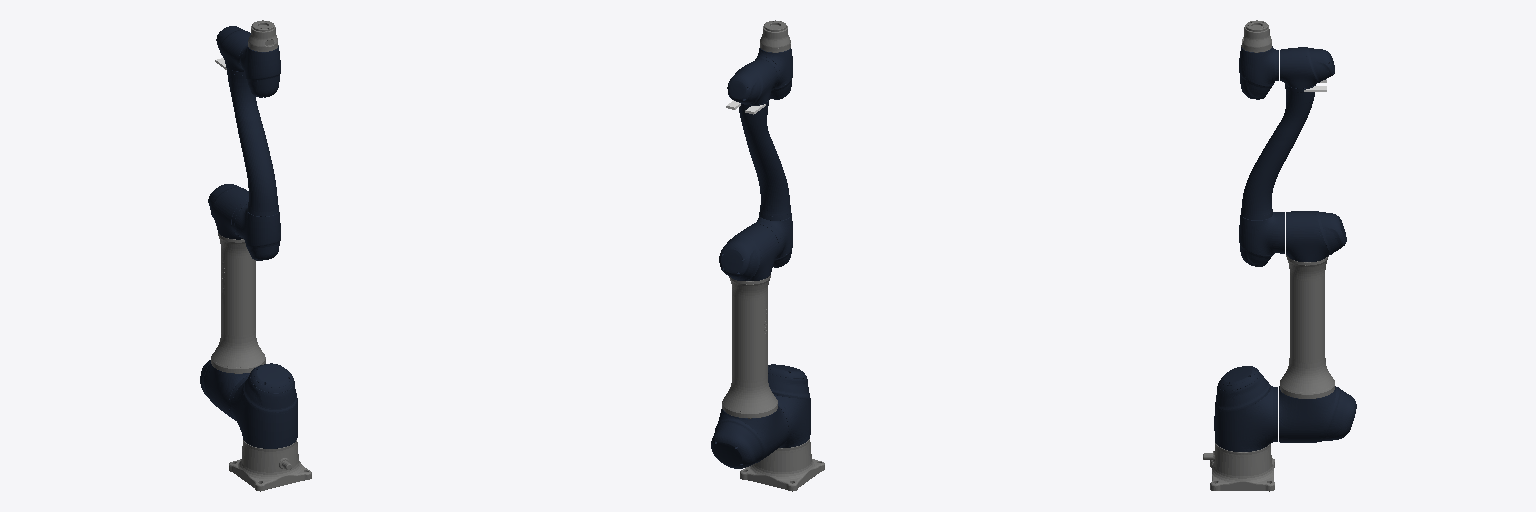
--- Facts derived from the render (not from the file) ---
3 views of the same robot in one strip: view 1: azimuth 30°, elevation 25°; view 2: azimuth 150°, elevation 25°; view 3: azimuth 270°, elevation 25° (orthographic).
Robot: doosan — 24 links, 23 joints (6 revolute, 17 fixed); root link base_0; default pose: all joints at 0.
Links seen in each view (by area): view 1: link2, link4, link1, base_0, link3, link5, link6; view 2: link2, link4, link1, base_0, link5, link3, link6; view 3: link2, link4, link1, base_0, link3, link5, link6.
Link boxes in pixels (x1,y1,x2,y2): link2: [200, 184, 265, 420]; link4: [216, 26, 278, 216]; link1: [229, 363, 297, 448]; base_0: [229, 440, 311, 491]; link3: [232, 200, 280, 260]; link5: [239, 45, 280, 97]; link6: [248, 20, 278, 51]; link2: [711, 224, 788, 468]; link4: [727, 59, 791, 220]; link1: [768, 364, 810, 447]; base_0: [740, 439, 824, 491]; link5: [755, 48, 792, 99]; link3: [752, 215, 792, 267]; link6: [760, 20, 790, 52]; link2: [1279, 211, 1356, 442]; link4: [1241, 47, 1334, 219]; link1: [1214, 366, 1277, 451]; base_0: [1203, 443, 1274, 491]; link3: [1239, 212, 1284, 266]; link5: [1239, 46, 1278, 99]; link6: [1241, 20, 1271, 52].
Bounding box of the posed robot: 0.182 × 0.4285 × 1.4 m (x, y, z).
Meshes: 20 distinct files referenced, 14 mesh visuals loaded (14 binary STL); not drawn: 10 (reference not matched to a file when rendering).

URDF robot description (doosan):
<?xml version="1.0"?>

<robot name="doosan" xmlns:xacro="http://www.ros.org/wiki/xacro">
    <link name="base_0">
        <inertial>
            <mass value="3.635"/>
            <origin xyz="4e-06   -0.001016     0.08181"/>
            <inertia ixx="0.02216" ixy="5.8001e-06" ixz="6.1941e-06" iyy="0.024835"
                iyz="-5.3034e-05"
                izz="0.021063"/>
            </inertial>
        <visual>
            <origin rpy="0 0 0" xyz="0 0 0" />
            <geometry>
                <mesh filename="meshes/a0912_blue/A0912_0_0.stl" scale="0.001 0.001 0.001" />
            </geometry>
            <material name="dr_gray">
                <color rgba="0.490 0.490 0.486 1.0"/>
            </material>
        </visual>
    </link>

    <link name="doosan_pedestal">
        <visual>
            <origin rpy="1.57079632679 0 -1.57079632679" xyz="0.26 0.345 -0.91488"/>
            <geometry>
                <mesh filename="meshes/doosan_pedestal/pedestal.STL"/>
            </geometry>
            <material name="darkgray">
                <color rgba=".2 .2 .2 1"/>
            </material>
        </visual>
        <collision>
            <origin rpy="0 0 0" xyz="-0.02 0 -0.29"/>
            <geometry>
                <cylinder length="0.62" radius="0.18"/>
            </geometry>
        </collision>
        <inertial>
            <origin rpy="0 0 0" xyz="0 0 -0.5"/>
            <mass value="60.86397744"/>
            <inertia ixx="5.0635929" ixy="0.00103417" ixz="0.80199628" iyy="6.08689388" iyz="0.00105311" izz="4.96191932"/>
        </inertial>
    </link>

    <joint name="doosan_pedestal_fixed" type="fixed">
        <origin rpy="0 0 0" xyz="0.0 0.0 0.0"/>
        <parent link="base_0"/>
        <child link="doosan_pedestal"/>
    </joint>  

    <link name="doosan_controller_box">
        <collision>
        <origin rpy="0 0 0" xyz="-0.325 0 -0.38"/>
        <geometry>
            <box size="0.22 0.4 0.53"/>
        </geometry>
        </collision>
    </link>

    <joint name="doosan_controller_box_fixed" type="fixed">
        <origin rpy="0 0 0" xyz="0.0 0.0 0.0"/>
        <parent link="base_0"/>
        <child link="doosan_controller_box"/>
    </joint>

    <link name="doosan_pedestal_feet">
        <collision>
        <origin rpy="0 0 0" xyz="-0.1225 0 -0.758"/>
        <geometry>
            <box size="0.77 0.7 0.31"/>
        </geometry>
        </collision>
    </link>

    <joint name="doosan_pedestal_feet_fixed" type="fixed">
        <origin rpy="0 0 0" xyz="0.0 0.0 0.0"/>
        <parent link="base_0"/>
        <child link="doosan_pedestal_feet"/>
    </joint>

    <!-- joint 1 -->
    <joint name="joint1" type="revolute">
        <parent link="base_0" />
        <child link="link1" />
        <origin rpy="0 0 0" xyz="0 0 0.195" />
        <axis xyz="0 0 1" />
        <limit effort="411" lower="-6.2832" upper="6.2832" velocity="3.1416"/>
        <dynamics friction="0" />
    </joint>
    <link name="link1">
        <inertial>
            <mass value="7.863"/>
            <origin xyz="4.4e-05    0.029982    -0.01112"/>
            <inertia ixx="0.045839" ixy="1.2759e-05" ixz="-3.6168e-05" iyy="0.032913"
                iyz="-0.0029965"
                izz="0.044399"/>
        </inertial>
        <collision>
            <geometry>
                <cylinder radius="0.08" length="0.2"/>
            </geometry>
        </collision>
        <visual>
            <origin rpy="0 0 0" xyz="0 0 0" />
            <geometry>
                <mesh filename="meshes/a0912_blue/A0912_1_0.stl" scale="0.001 0.001 0.001" />
            </geometry>
            <material name="dr_navy">
                <color rgba="0.15686 0.19215 0.25490 1" />
            </material>
        </visual>
        <visual>
            <origin rpy="0 0 0" xyz="0 0 0" />
            <geometry>
                <mesh filename="meshes/a0912_blue/A0912_1_1.stl" scale="0.001 0.001 0.001" />
            </geometry>
            <material name="dr_navy">
                <color rgba="0.15686 0.19215 0.25490 1" />
            </material>
        </visual>
        <visual>
            <origin rpy="0 0 0" xyz="0 0 0" />
            <geometry>
                <mesh filename="meshes/a0912_blue/A0912_1_2.stl" scale="0.001 0.001 0.001" />
            </geometry>
            <material name="dr_navy">
                <color rgba="0.15686 0.19215 0.25490 1" />
            </material>
        </visual>
    </link>
    <!-- joint2 -->
    <joint name="joint2" type="revolute">
        <parent link="link1" />
        <child link="link2" />
        <origin rpy="0 -1.571 -1.571" xyz="0 0.039 0" />
        <axis xyz="0 0 1" />
        <limit effort="411" lower="-6.2832" upper="6.2832" velocity="3.1416"/>
        <dynamics friction="0" />
    </joint>
    <link name="link2">
        <inertial>
            <mass value="10.985"/>
            <origin xyz="0.19748    0.001426     0.13191"/>
            <inertia ixx="0.04446" ixy="-0.0049948" ixz="-0.010992" iyy="0.67642" iyz="-2.8483e-05"
                izz="0.67428"/>
        </inertial>
        <collision>
            <origin rpy="0 -1.571 0" xyz="0.3 0 0.1525" />
            <geometry>
                <cylinder radius="0.08" length="0.6"/>
            </geometry>
        </collision>
        <visual>
            <origin rpy="0 0 0" xyz="0 0 0" />
            <geometry>
                <mesh filename="meshes/a0912_blue/A0912_2_0.stl" scale="0.001 0.001 0.001" />
            </geometry>
            <material name="dr_navy">
                <color rgba="0.15686 0.19215 0.25490 1" />
            </material>
        </visual>
        <visual>
            <origin rpy="0 0 0" xyz="0 0 0" />
            <geometry>
                <mesh filename="meshes/a0912_blue/A0912_2_1.stl" scale="0.001 0.001 0.001" />
            </geometry>
            <material name="dr_gray">
                <color rgba="0.490 0.490 0.486 1.0"/>
            </material>
        </visual>
        <visual>
            <origin rpy="0 0 0" xyz="0 0 0" />
            <geometry>
                <mesh filename="meshes/a0912_blue/A0912_2_2.stl" scale="0.001 0.001 0.001" />
            </geometry>
            <material name="dr_navy">
                <color rgba="0.15686 0.19215 0.25490 1" />
            </material>
        </visual>
    </link>
    <!-- joint3 -->
    <joint name="joint3" type="revolute">
        <parent link="link2" />
        <child link="link3" />
        <origin rpy="0 0 1.571" xyz="0.56 0 0" />
        <axis xyz="0 0 1" />
        <limit effort="194" lower="-2.7925" upper="2.7925" velocity="3.1416"/>
        <dynamics friction="0" />
    </joint>
    <link name="link3">
        <inertial>
            <mass value="2.881"/>
            <origin xyz="8.5e-05   -0.002513    0.032058"/>
            <inertia ixx="0.012756" ixy="-5.4257e-06" ixz="1.6402e-05" iyy="0.011416"
                iyz="-0.0001989"
                izz="0.0080652"/>
        </inertial>
        <visual>
            <origin rpy="0 0 0" xyz="0 0 0" />
            <geometry>
                <mesh filename="meshes/a0912_blue/A0912_3_0.stl" scale="0.001 0.001 0.001" />
            </geometry>
            <material name="dr_navy">
                <color rgba="0.15686 0.19215 0.25490 1" />
            </material>
        </visual>
        <visual>
            <origin rpy="0 0 0" xyz="0 0 0" />
            <geometry>
                <mesh filename="meshes/a0912_blue/A0912_3_1.stl" scale="0.001 0.001 0.001" />
            </geometry>
            <material name="dr_navy">
                <color rgba="0.15686 0.19215 0.25490 1" />
            </material>
        </visual>
    </link>
    <!-- joint4 -->
    <joint name="joint4" type="revolute">
        <parent link="link3" />
        <child link="link4" />
        <origin rpy="1.571 0 0" xyz="0 -0.516 0" />
        <axis xyz="0 0 1" />
        <limit effort="50" lower="-6.2832" upper="6.2832" velocity="6.2832"/>
        <dynamics friction="0" />
    </joint>
    <link name="link4">
        <inertial>
            <mass value="3.273"/>
            <origin xyz="-9.6e-05    0.085314    -0.13975"/>
            <inertia ixx="0.12246" ixy="2.3905e-05" ixz="2.5022e-05" iyy="0.11307" iyz="-0.027995"
                izz="0.017186"/>
        </inertial>
        <collision>
            <origin rpy="-0.46 0 0" xyz="0 0.075 -0.2" />
            <geometry>
                <cylinder radius="0.05" length="0.4"/>
            </geometry>
        </collision>
        <visual>
            <origin rpy="0 0 0" xyz="0 0 0" />
            <geometry>
                <mesh filename="meshes/a0912_blue/A0912_4_0.stl" scale="0.001 0.001 0.001" />
            </geometry>
            <material name="dr_navy">
                <color rgba="0.15686 0.19215 0.25490 1" />
            </material>
        </visual>
        <visual>
            <origin rpy="0 0 0" xyz="0 0 0" />
            <geometry>
                <mesh filename="meshes/a0912_blue/A0912_4_1.stl" scale="0.001 0.001 0.001" />
            </geometry>
            <material name="dr_navy">
                <color rgba="0.15686 0.19215 0.25490 1" />
            </material>
        </visual>
    </link>
    <!-- joint5 -->
    <joint name="joint5" type="revolute">
        <parent link="link4" />
        <child link="link5" />
        <origin rpy="-1.571 0 0" xyz="0 0 0" />
        <axis xyz="0 0 1" />
        <limit effort="50" lower="-6.2832" upper="6.2832" velocity="6.2832"/>
        <dynamics friction="0" />
    </joint>
    <link name="link5">
        <inertial>
            <mass value="2.141"/>
            <origin xyz="0.000109   -0.003286     0.01477"/>
            <inertia ixx="0.013145" ixy="-4.7132e-06" ixz="8.5804e-06" iyy="0.0073072"
                iyz="-5.999e-05"
                izz="0.0090476"/>
        </inertial>
        <collision>
            <origin rpy="1.571 0 0" xyz="0 0 0" />
            <geometry>
                <cylinder radius="0.06" length="0.15"/>
            </geometry>
        </collision>
        <visual>
            <origin rpy="0 0 0" xyz="0 0 0" />
            <geometry>
                <mesh filename="meshes/a0912_blue/A0912_5_0.stl" scale="0.001 0.001 0.001" />
            </geometry>
            <material name="dr_navy">
                <color rgba="0.15686 0.19215 0.25490 1" />
            </material>
        </visual>
        <visual>
            <origin rpy="0 0 0" xyz="0 0 0" />
            <geometry>
                <mesh filename="meshes/a0912_blue/A0912_5_1.stl" scale="0.001 0.001 0.001" />
            </geometry>
            <material name="dr_navy">
                <color rgba="0.15686 0.19215 0.25490 1" />
            </material>
        </visual>
    </link>
    <!-- joint6 -->
    <joint name="joint6" type="revolute">
        <parent link="link5" />
        <child link="link6" />
        <origin rpy="1.571 0 0" xyz="0 -0.124 0" />
        <axis xyz="0 0 1" />
        <limit effort="50" lower="-6.2832" upper="6.2832" velocity="6.2832"/>
        <dynamics friction="0" />
    </joint>
    <link name="link6">
        <inertial>
            <mass value="0.784"/>
            <origin xyz="-1.9e-05      -6e-06    -0.05227"/>
            <inertia ixx="0.0067403" ixy="5.2373e-06" ixz="2.4957e-06" iyy="0.0048015"
                iyz="8.3671e-06"
                izz="0.0059696"/>
        </inertial>
        <visual>
            <origin rpy="0 0 0" xyz="0 0 0" />
            <geometry>
                <mesh filename="meshes/a0912_blue/A0912_6_0.stl" scale="0.001 0.001 0.001" />
            </geometry>
            <material name="dr_gray">
                <color rgba="0.490 0.490 0.486 1.0"/>
            </material>
        </visual>
    </link>

    <link name="right_hand"/>
    <joint name="right_hand_fixed" type="fixed">
        <origin rpy="0 0 0" xyz="0 0 0"/>
        <parent link="link6"/>
        <child link="right_hand"/>
    </joint>

    <link name="right_gripper">
        <inertial>
            <origin xyz="8.625E-08 -4.6583E-06 0.03145" rpy="0 0 0" />
            <mass value="0.22652" />
            <inertia ixx="0.00020005" ixy="-4.2442E-10" ixz="-2.9069E-10" iyy="0.00017832" iyz="-3.4402E-08" izz="0.00013478" />
        </inertial>
        <visual>
        <origin xyz="0 0 -0.061525" quat="0 0.707388 -0.706825 0" />
        <geometry>
            <mesh filename="meshes/visual/robotiq_arg2f_base_link.stl" />
        </geometry>
        <material name="">
            <color rgba="0.1 0.1 0.1 1" />
        </material>
        </visual>
        <collision>
        <origin xyz="0 0 -0.061525" quat="0 0.707388 -0.706825 0" />
        <geometry>
            <mesh filename="meshes/collision/robotiq_arg2f_base_link.stl" />
        </geometry>
        </collision>
    </link>

    <joint name="right_gripper_fixed" type="fixed">
        <origin quat="0 -0.707105 0.707108 0 " xyz="0 0 -0.0625"/>
        <parent link="right_hand"/>
        <child link="right_gripper"/>
        <axis xyz="0 0 0"/>
    </joint>

    <link name="tcp"/>
    <joint name="doosan_eef_fixed" type="fixed">
        <origin quat="1 0 0 0" xyz="0 0 0.2075"/>
        <parent link="right_hand"/>
        <child link="tcp"/>
    </joint>

    <joint name="finger_joint" type="fixed">
        <origin xyz="0.030601 2.43684e-05 -0.11643" quat="-0.64507 0.290316 -0.290085 0.644556"/>
        <parent link="right_gripper" />
        <child link="left_outer_knuckle" />
        <axis xyz="-1 0 0" />
        <limit lower="0" upper="0.7" velocity="2.0" effort="1000" />
    </joint>

    <joint name="right_outer_knuckle_joint" type="fixed">
        <origin xyz="-0.030601 -2.43684e-05 -0.11643" quat="0.644556 -0.290085 -0.290316 0.64507"/>
        <parent link="right_gripper" />
        <child link="right_outer_knuckle" />
        <axis xyz="1 0 0" />
        <limit lower="-0.725" upper="0.725" velocity="2.0" effort="1000" />
        <mimic joint="finger_joint" multiplier="-1" offset="0" />
    </joint>

    <link name="right_outer_knuckle">
        <inertial>
            <origin xyz="-0.000200000000003065 0.0199435877845359 0.0292245259211331" rpy="0 0 0" />
            <mass value="0.00853198276973456" />
            <inertia
                ixx="2.89328108496468E-06"
                ixy="-1.57935047237397E-19"
                ixz="-1.93980378593255E-19"
                iyy="1.86719750325683E-06"
                iyz="-1.21858577871576E-06"
                izz="1.21905238907251E-06" />
        </inertial>
        <visual>
            <origin xyz="0 0 0" rpy="0 0 0" />
            <geometry>
                <mesh filename="meshes/visual/robotiq_arg2f_140_outer_knuckle.stl" />
            </geometry>
            <material name="">
                <color rgba="0.792156862745098 0.819607843137255 0.933333333333333 1" />
            </material>
        </visual>
        <collision>
            <origin xyz="0 0 0" rpy="0 0 0" />
            <geometry>
                <mesh filename="meshes/collision/robotiq_arg2f_140_outer_knuckle.stl" />
            </geometry>
        </collision>
    </link>

    <link name="right_outer_finger">
        <inertial>
            <origin xyz="0.00030115855001899 0.0373907951953854 -0.0208027427000385" rpy="0 0 0" />
            <mass value="0.022614240507152" />
            <inertia
                ixx="1.52518312458174E-05"
                ixy="9.76583423954399E-10"
                ixz="-5.43838577022588E-10"
                iyy="6.17694243867776E-06"
                iyz="6.78636130740228E-06"
                izz="1.16494917907219E-05" />
        </inertial>
        <visual>
            <origin xyz="0 0 0" rpy="0 0 0" />
            <geometry>
                <mesh filename="meshes/visual/robotiq_arg2f_140_outer_finger.stl" />
            </geometry>
            <material name="">
                <color rgba="0.1 0.1 0.1 1" />
            </material>
        </visual>
        <collision>
            <origin xyz="0 0 0" rpy="0 0 0" />
            <geometry>
            <mesh filename="meshes/collision/robotiq_arg2f_140_outer_finger.stl" />
            </geometry>
        </collision>
    </link>

    <link name="right_inner_knuckle">
        <inertial>
            <origin xyz="0.000123011831763771 0.0507850843201817 0.00103968640075166" rpy="0 0 0" />
            <mass value="0.0271177346495152" />
            <inertia
                ixx="2.61910379223783E-05"
                ixy="-2.43616858946494E-07"
                ixz="-6.37789906117123E-09"
                iyy="2.8270243746167E-06"
                iyz="-5.37200748039765E-07"
                izz="2.83695868220296E-05" />
        </inertial>
        <visual>
            <origin xyz="0 0 0" rpy="0 0 0" />
            <geometry>
            <mesh filename="meshes/visual/robotiq_arg2f_140_inner_knuckle.stl" />
            </geometry>
            <material name="">
            <color rgba="0.1 0.1 0.1 1" />
            </material>
        </visual>
        <collision>
            <origin xyz="0 0 0" rpy="0 0 0" />
            <geometry>
            <mesh filename="meshes/collision/robotiq_arg2f_140_inner_knuckle.stl" />
            </geometry>
        </collision>
    </link>

    <link name="right_inner_finger">
        <inertial>
            <origin xyz="0.000299999999999317 0.0160078233491243 -0.0136945669206257" rpy="0 0 0" />
            <mass value="0.0104003125914103" />
            <inertia
                ixx="2.71909453810972E-06"
                ixy="1.35402465472579E-21"
                ixz="-7.1817349065269E-22"
                iyy="7.69100314106116E-07"
                iyz="6.74715432769696E-07"
                izz="2.30315190420171E-06" />
        </inertial>
        <visual>
            <origin xyz="0 0 0" rpy="0 0 0" />
            <geometry>
            <mesh filename="meshes/visual/robotiq_arg2f_140_inner_finger.stl" />
            </geometry>
            <material name="">
            <color rgba="0.1 0.1 0.1 1" />
            </material>
        </visual>
        <collision>
            <origin xyz="0 0 0" rpy="0 0 0" />
            <geometry>
            <mesh filename="meshes/collision/robotiq_arg2f_140_inner_finger.stl" />
            </geometry>
        </collision>
    </link>

    <link name="right_inner_finger_pad">
        <visual>
            <origin xyz="0 0 0" rpy="0 0 0" />
            <geometry>
            <box size="0.027 0.065 0.0075"/>
            </geometry>
            <material name="">
            <color rgba="0.9 0.9 0.9 1" />
            </material>
        </visual>
        <collision>
            <origin xyz="0 0 0" rpy="0 0 0" />
            <geometry>
            <box size="0.03 0.07 0.0375"/>
            </geometry>
            <material name="">
            <color rgba="0.9 0.0 0.0 1" />
            </material>
        </collision>
    </link>

    <joint name="right_outer_finger_joint" type="fixed">
        <origin xyz="0 0.01821998610742 0.0260018192872234" rpy="0 0 0" />
        <parent link="right_outer_knuckle" />
        <child link="right_outer_finger" />
        <axis xyz="1 0 0" />
    </joint>

    <joint name="right_inner_knuckle_joint" type="fixed">
        <origin xyz="-0.0127 -1.01133e-05 -0.122945" quat="-0.644556 0.290085 0.290316 -0.64507" />
        <parent link="right_gripper" />
        <child link="right_inner_knuckle" />
        <axis xyz="1 0 0" />
        <limit lower="-0.8757" upper="0.8757" velocity="2.0" effort="1000" />
        <mimic joint="finger_joint" multiplier="-1" offset="0" />
    </joint>

    <joint name="right_inner_finger_joint" type="fixed">
        <origin xyz="0 0.0999754 -0.00221853" quat="0.935013 -0.354613 0 0" />
        <parent link="right_outer_finger" />
        <child link="right_inner_finger" />
        <axis xyz="1 0 0" />
        <limit lower="-0.8757" upper="0.8757" velocity="2.0" effort="1000" />
        <mimic joint="finger_joint" multiplier="1" offset="0" />
    </joint>

    <joint name="right_inner_finger_pad_joint" type="fixed">
        <origin xyz="0 0.0457554 -0.0272203" rpy="0 0 0" />
        <parent link="right_inner_finger" />
        <child link="right_inner_finger_pad" />
        <axis xyz="0 0 1" />
    </joint>

    <link name="left_outer_knuckle">
        <inertial>
            <origin xyz="-0.000200000000003065 0.0199435877845359 0.0292245259211331" rpy="0 0 0" />
            <mass value="0.00853198276973456" />
            <inertia
                ixx="2.89328108496468E-06"
                ixy="-1.57935047237397E-19"
                ixz="-1.93980378593255E-19"
                iyy="1.86719750325683E-06"
                iyz="-1.21858577871576E-06"
                izz="1.21905238907251E-06" />
        </inertial>
        <visual>
            <origin xyz="0 0 0" rpy="0 0 0" />
            <geometry>
                <mesh filename="meshes/visual/robotiq_arg2f_140_outer_knuckle.stl" />
            </geometry>
            <material name="">
                <color rgba="0.792156862745098 0.819607843137255 0.933333333333333 1" />
            </material>
        </visual>
        <collision>
            <origin xyz="0 0 0" rpy="0 0 0" />
            <geometry>
                <mesh filename="meshes/collision/robotiq_arg2f_140_outer_knuckle.stl" />
            </geometry>
        </collision>
    </link>

    <link name="left_outer_finger">
        <inertial>
            <origin xyz="0.00030115855001899 0.0373907951953854 -0.0208027427000385" rpy="0 0 0" />
            <mass value="0.022614240507152" />
            <inertia
                ixx="1.52518312458174E-05"
                ixy="9.76583423954399E-10"
                ixz="-5.43838577022588E-10"
                iyy="6.17694243867776E-06"
                iyz="6.78636130740228E-06"
                izz="1.16494917907219E-05" />
        </inertial>
        <visual>
            <origin xyz="0 0 0" rpy="0 0 0" />
            <geometry>
                <mesh filename="meshes/visual/robotiq_arg2f_140_outer_finger.stl" />
            </geometry>
            <material name="">
                <color rgba="0.1 0.1 0.1 1" />
            </material>
        </visual>
        <collision>
            <origin xyz="0 0 0" rpy="0 0 0" />
            <geometry>
            <mesh filename="meshes/collision/robotiq_arg2f_140_outer_finger.stl" />
            </geometry>
        </collision>
    </link>

    <link name="left_inner_knuckle">
        <inertial>
            <origin xyz="0.000123011831763771 0.0507850843201817 0.00103968640075166" rpy="0 0 0" />
            <mass value="0.0271177346495152" />
            <inertia
                ixx="2.61910379223783E-05"
                ixy="-2.43616858946494E-07"
                ixz="-6.37789906117123E-09"
                iyy="2.8270243746167E-06"
                iyz="-5.37200748039765E-07"
                izz="2.83695868220296E-05" />
        </inertial>
        <visual>
            <origin xyz="0 0 0" rpy="0 0 0" />
            <geometry>
            <mesh filename="meshes/visual/robotiq_arg2f_140_inner_knuckle.stl" />
            </geometry>
            <material name="">
            <color rgba="0.1 0.1 0.1 1" />
            </material>
        </visual>
        <collision>
            <origin xyz="0 0 0" rpy="0 0 0" />
            <geometry>
            <mesh filename="meshes/collision/robotiq_arg2f_140_inner_knuckle.stl" />
            </geometry>
        </collision>
    </link>

    <link name="left_inner_finger">
        <inertial>
            <origin xyz="0.000299999999999317 0.0160078233491243 -0.0136945669206257" rpy="0 0 0" />
            <mass value="0.0104003125914103" />
            <inertia
                ixx="2.71909453810972E-06"
                ixy="1.35402465472579E-21"
                ixz="-7.1817349065269E-22"
                iyy="7.69100314106116E-07"
                iyz="6.74715432769696E-07"
                izz="2.30315190420171E-06" />
        </inertial>
        <visual>
            <origin xyz="0 0 0" rpy="0 0 0" />
            <geometry>
            <mesh filename="meshes/visual/robotiq_arg2f_140_inner_finger.stl" />
            </geometry>
            <material name="">
            <color rgba="0.1 0.1 0.1 1" />
            </material>
        </visual>
        <collision>
            <origin xyz="0 0 0" rpy="0 0 0" />
            <geometry>
            <mesh filename="meshes/collision/robotiq_arg2f_140_inner_finger.stl" />
            </geometry>
        </collision>
    </link>

    <link name="collision_pad">
        <collision>
            <origin xyz="0 0 0" rpy="0 0 0" />
            <geometry>
            <box size="0.02 0.012 0.275"/>
            </geometry>
            <material name="">
            <color rgba="0.9 0.0 0.0 1" />
            </material>
        </collision>
    </link>

    <link name="left_inner_finger_pad">
        <visual>
            <origin xyz="0 0 0" rpy="0 0 0" />
            <geometry>
            <box size="0.027 0.065 0.0075"/>
            </geometry>
            <material name="">
            <color rgba="0.9 0.9 0.9 1" />
            </material>
        </visual>
        <collision>
            <origin xyz="0 0 0" rpy="0 0 0" />
            <geometry>
            <box size="0.03 0.07 0.0375"/>
            </geometry>
            <material name="">
            <color rgba="0.9 0.0 0.0 1" />
            </material>
        </collision>
    </link>

    <joint name="left_outer_finger_joint" type="fixed">
        <origin xyz="0 0.01821998610742 0.0260018192872234" rpy="0 0 0" />
        <parent link="left_outer_knuckle" />
        <child link="left_outer_finger" />
        <axis xyz="1 0 0" />
    </joint>

    <joint name="left_inner_knuckle_joint" type="fixed">
        <origin xyz="0.0127 1.01133e-05 -0.122945" quat="-0.64507 0.290316 -0.290085 0.644556"/>
        <parent link="right_gripper" />
        <child link="left_inner_knuckle" />
        <axis xyz="1 0 0" />
        <limit lower="-0.8757" upper="0.8757" velocity="2.0" effort="1000" />
        <mimic joint="finger_joint" multiplier="-1" offset="0" />
    </joint>

    <joint name="left_inner_finger_joint" type="fixed">
        <origin xyz="0 0.0999754 -0.00221853" quat="0.935013 -0.354613 0 0"/>
        <parent link="left_outer_finger" />
        <child link="left_inner_finger" />
        <axis xyz="1 0 0" />
        <limit lower="-0.8757" upper="0.8757" velocity="2.0" effort="1000" />
        <mimic joint="finger_joint" multiplier="1" offset="0" />
    </joint>

    <joint name="left_inner_finger_pad_joint" type="fixed">
        <origin xyz="0 0.0457554 -0.0272203" rpy="0 0 0" />
        <parent link="left_inner_finger" />
        <child link="left_inner_finger_pad" />
        <axis xyz="0 0 1" />
    </joint>

    <joint name="collision_pad_joint" type="fixed">
        <origin xyz="0 -0.0057554 -0.12203" rpy="0 0 0" />
        <parent link="left_inner_finger" />
        <child link="collision_pad" />
        <axis xyz="0 0 1" />
    </joint>

</robot>
